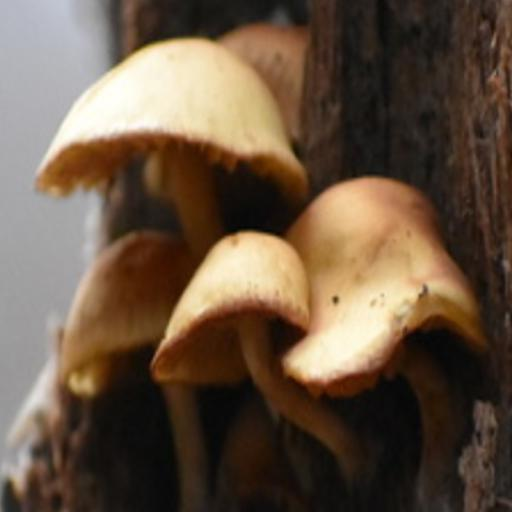mushroom: (44, 12, 490, 439)
